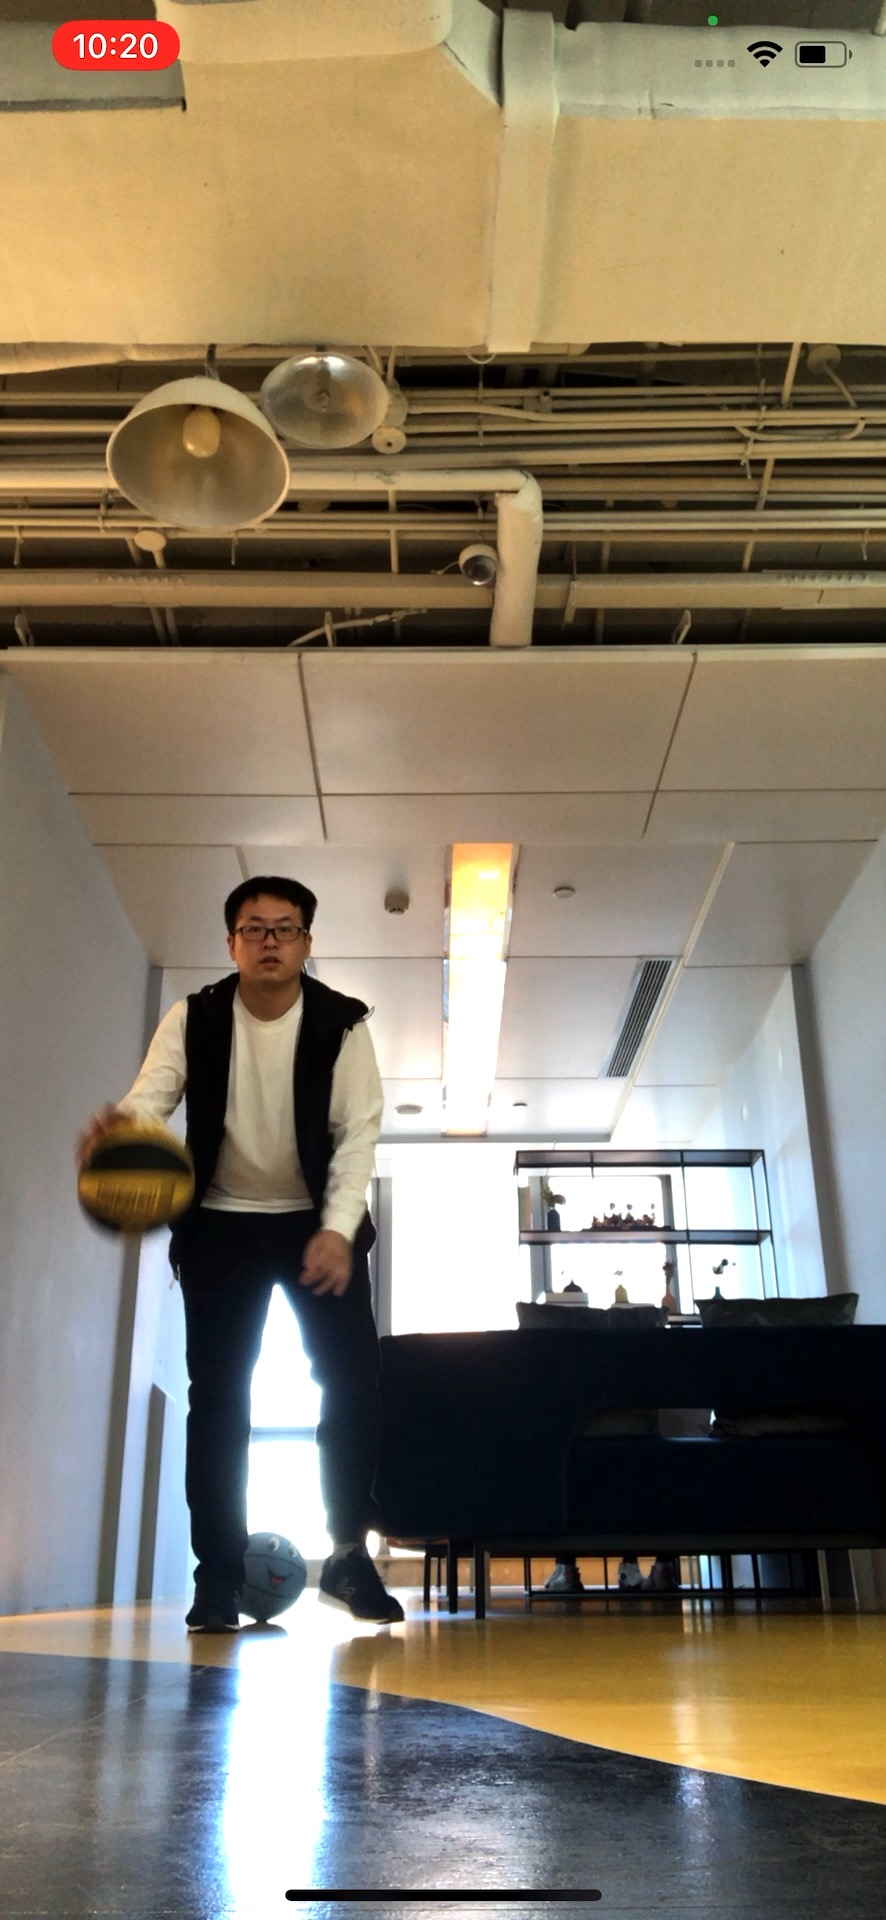ball: (78, 1119, 195, 1239), (241, 1529, 310, 1619)
